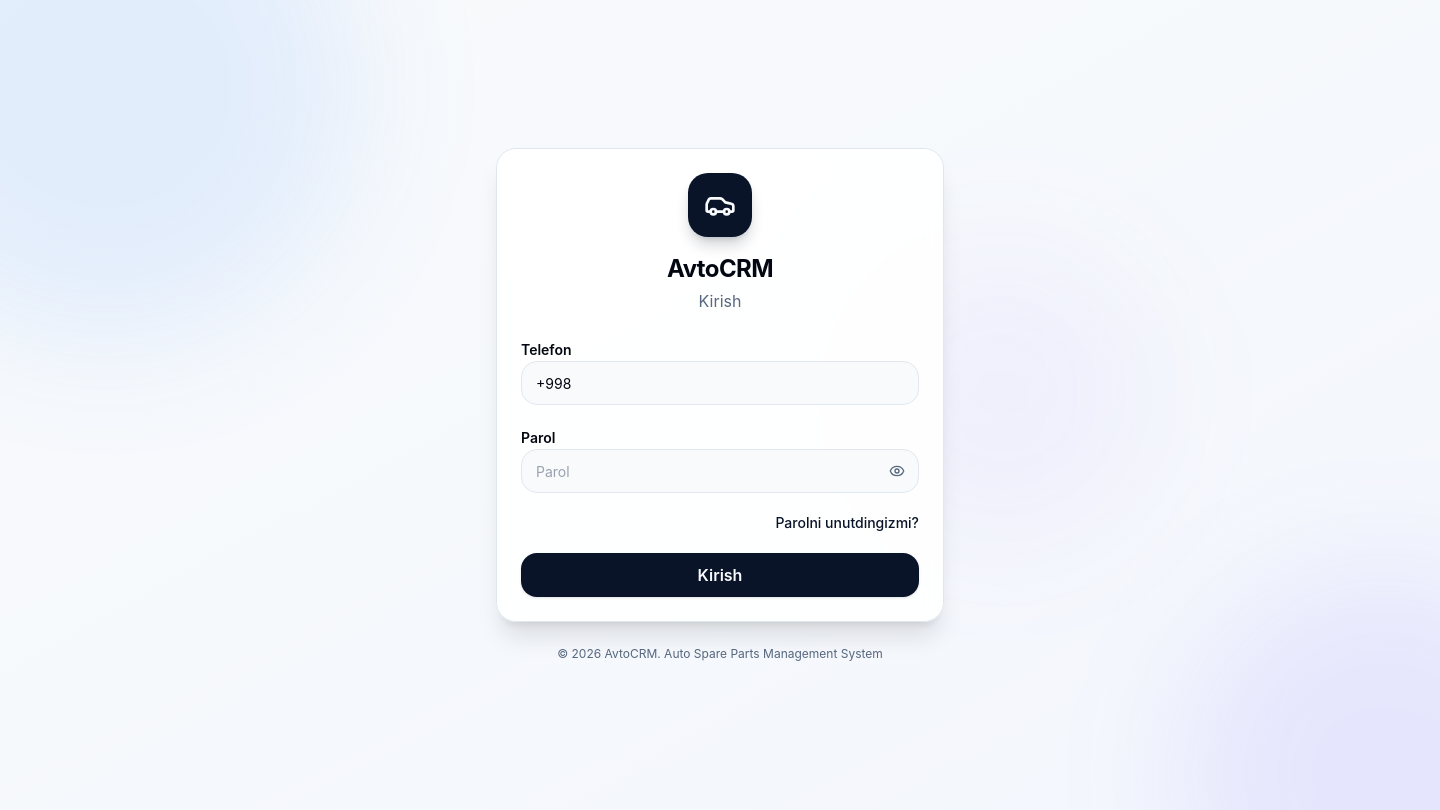
LoginPage › normalizes a pasted number that includes the country code
Click the field labelled "Telefon" at (720, 383), box [521,361,919,405]
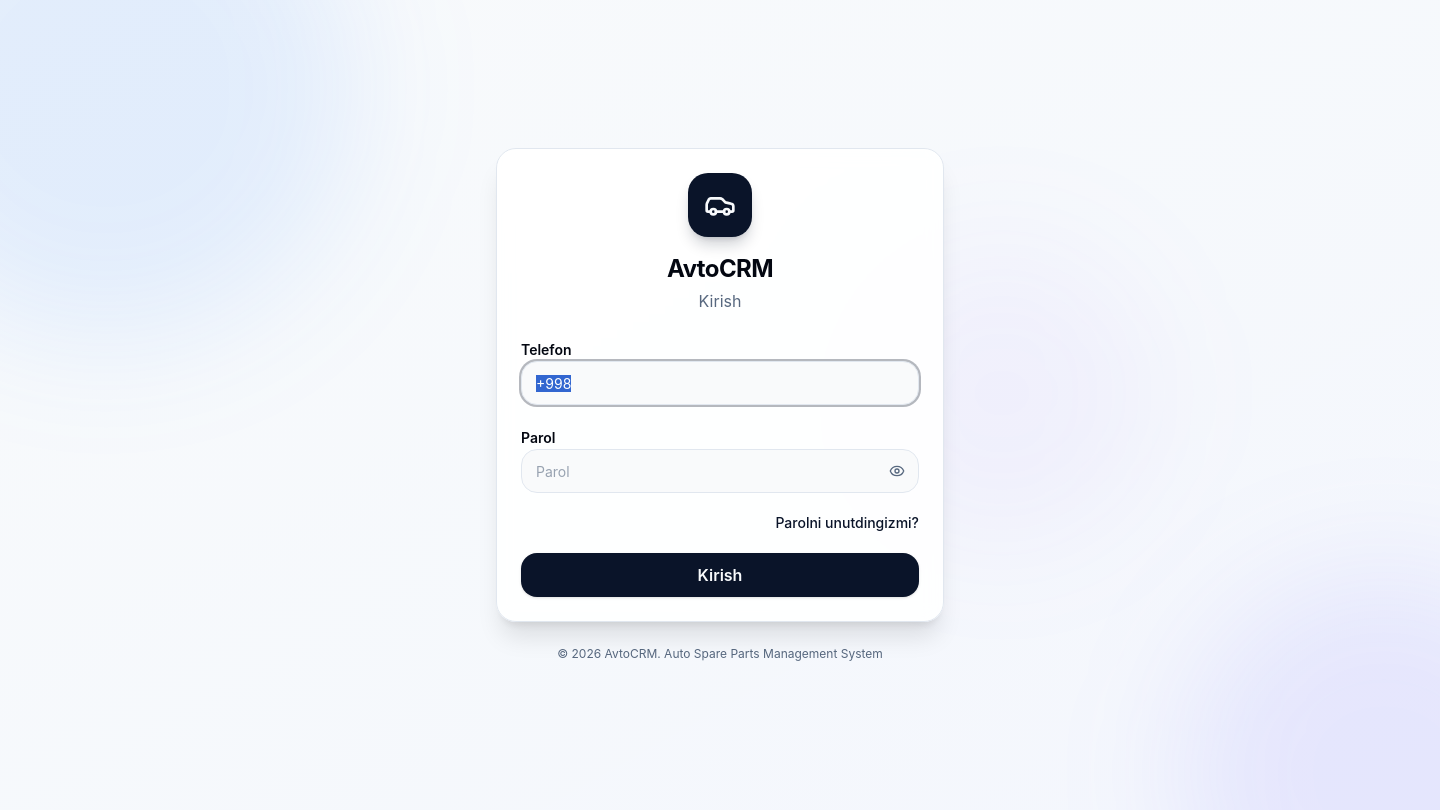
Type keys "998901234567"
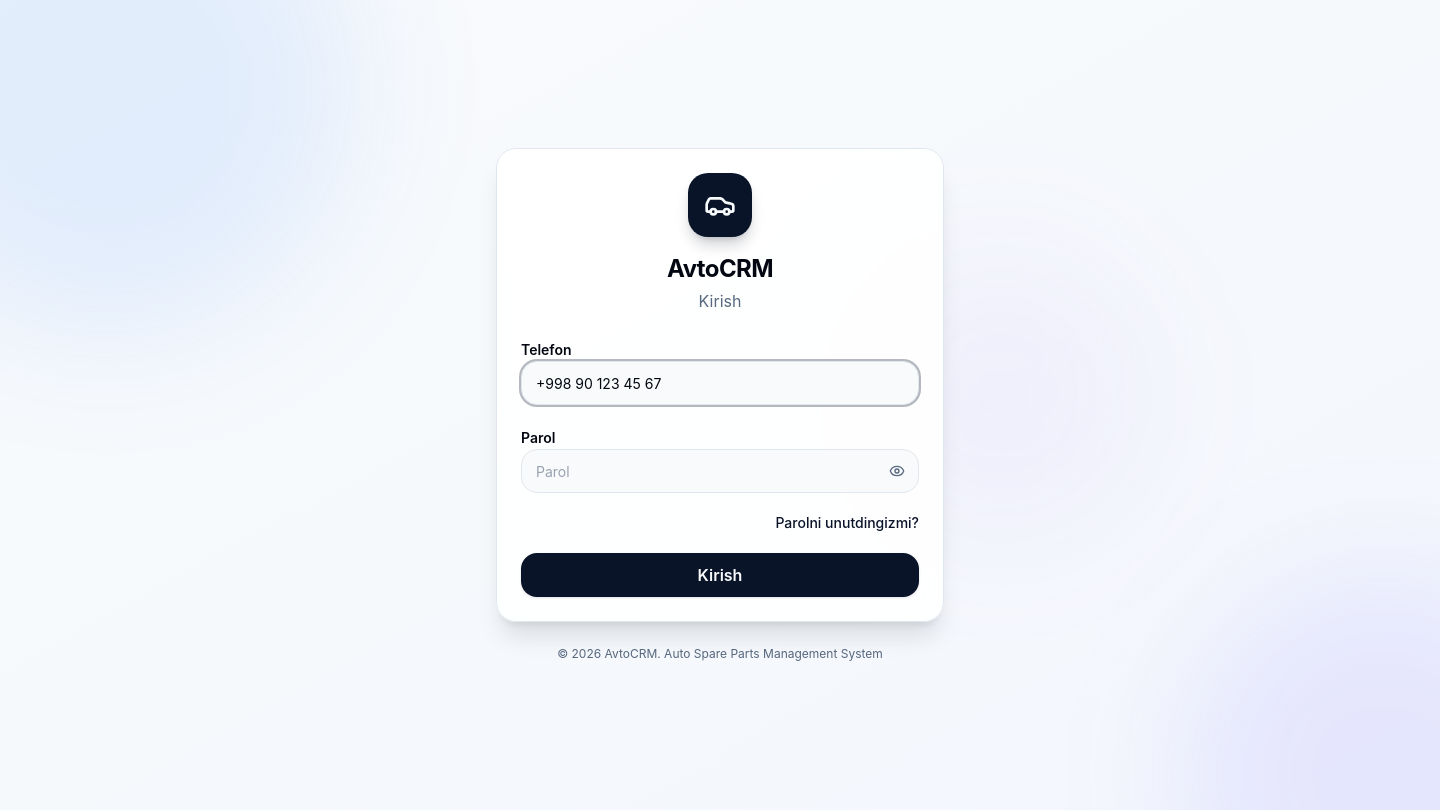
Now the field labelled "Telefon" holds "+998 90 123 45 67", box [521,361,919,405]
